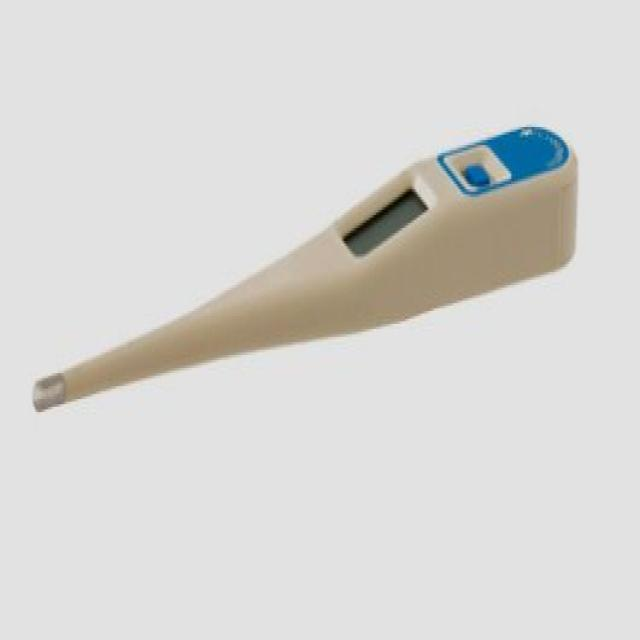electronic: (31, 119, 578, 415)
